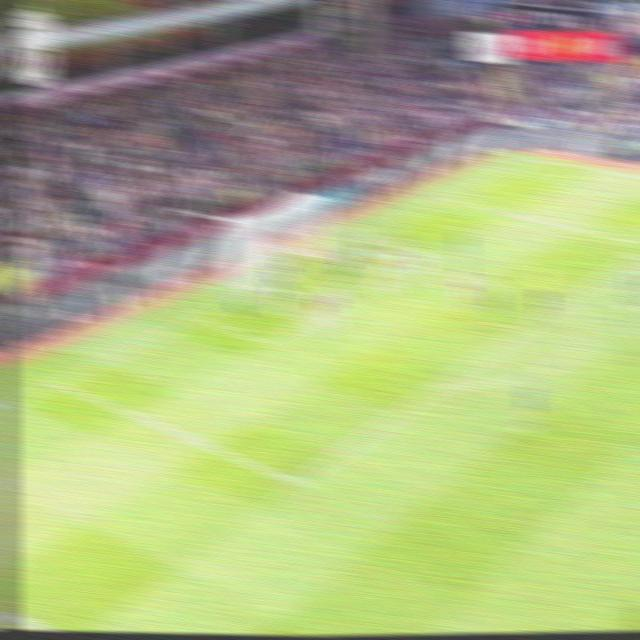bigarea_bottom_inner: (280, 465, 315, 499)
bigarea_bottom_outter: (45, 371, 71, 393)
bigarea_top_outter: (438, 188, 465, 208)
bottom_arc_area_intersection: (425, 369, 457, 400)
corner: (522, 148, 552, 167)
smallarea_bottom_inner: (250, 327, 281, 355)
smallarea_bottom_outter: (185, 303, 213, 329)
smallarea_top_inner: (416, 242, 445, 266)
smallarea_top_outter: (356, 227, 383, 247)
top_arc_area_intersection: (553, 287, 582, 312)
